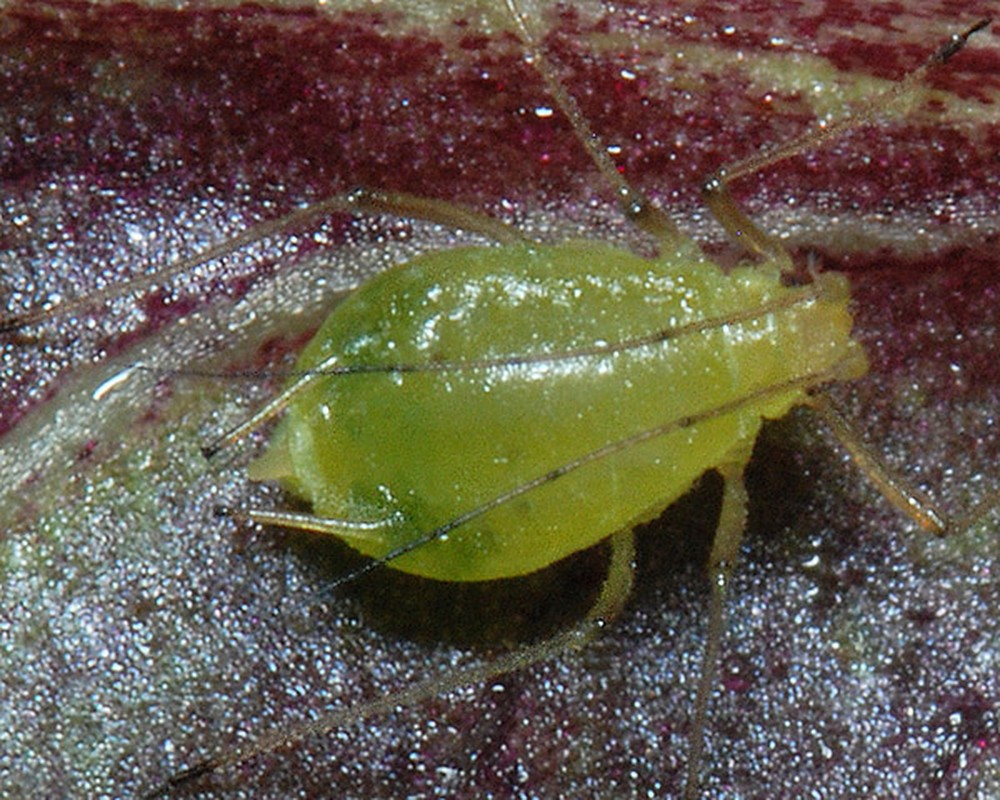Pulgon: (26, 83, 960, 785)
